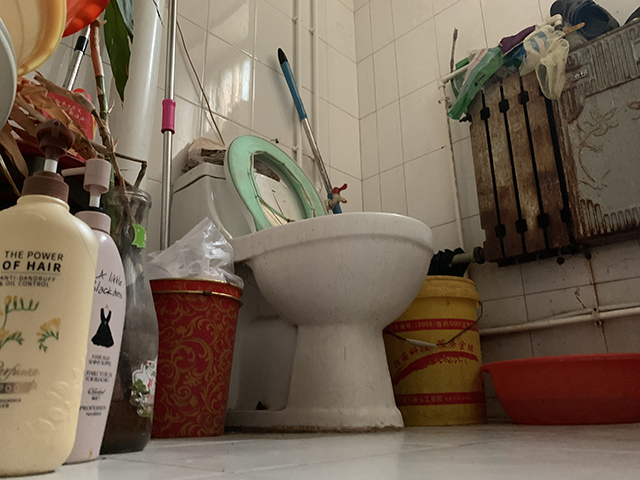closestool: (168, 134, 435, 436)
trashcan: (150, 277, 245, 440)
